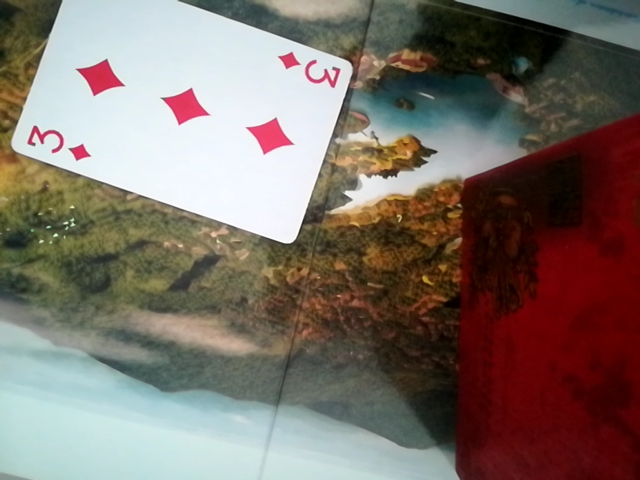fk 3: (4, 3, 361, 248)
